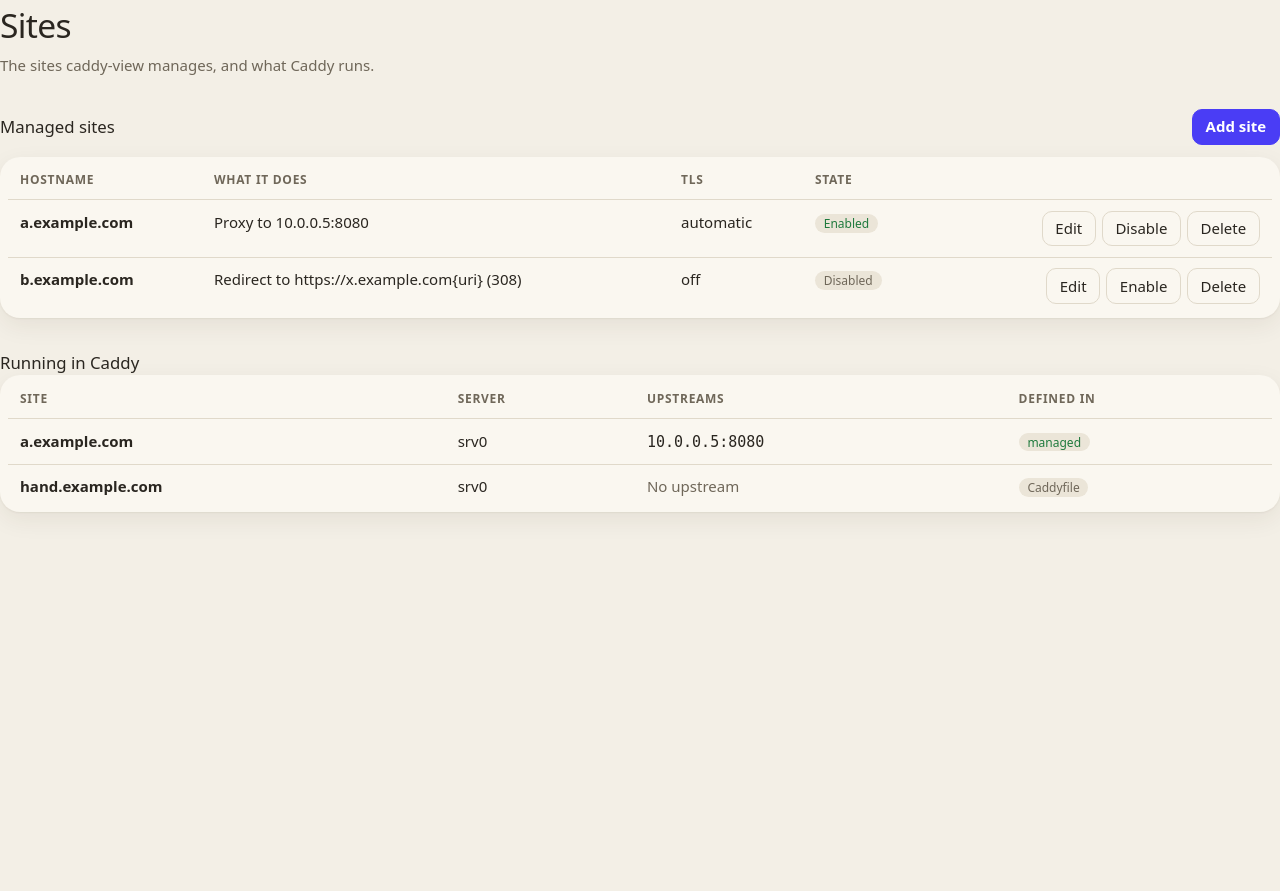
Test: SitesView adding and changing sites › opens the wizard on a site to change it
The width and height of the screenshot is (1280, 891).
Expected: the heading "Sites" is shown, [0,2,71,48]
Expected: the text "a.example.com" next to "Proxy to 10.0.0.5:8080" is shown, [20,212,133,232]
Click the button with aria-label "Edit a.example.com": (1069, 229) [1042,211,1096,246]
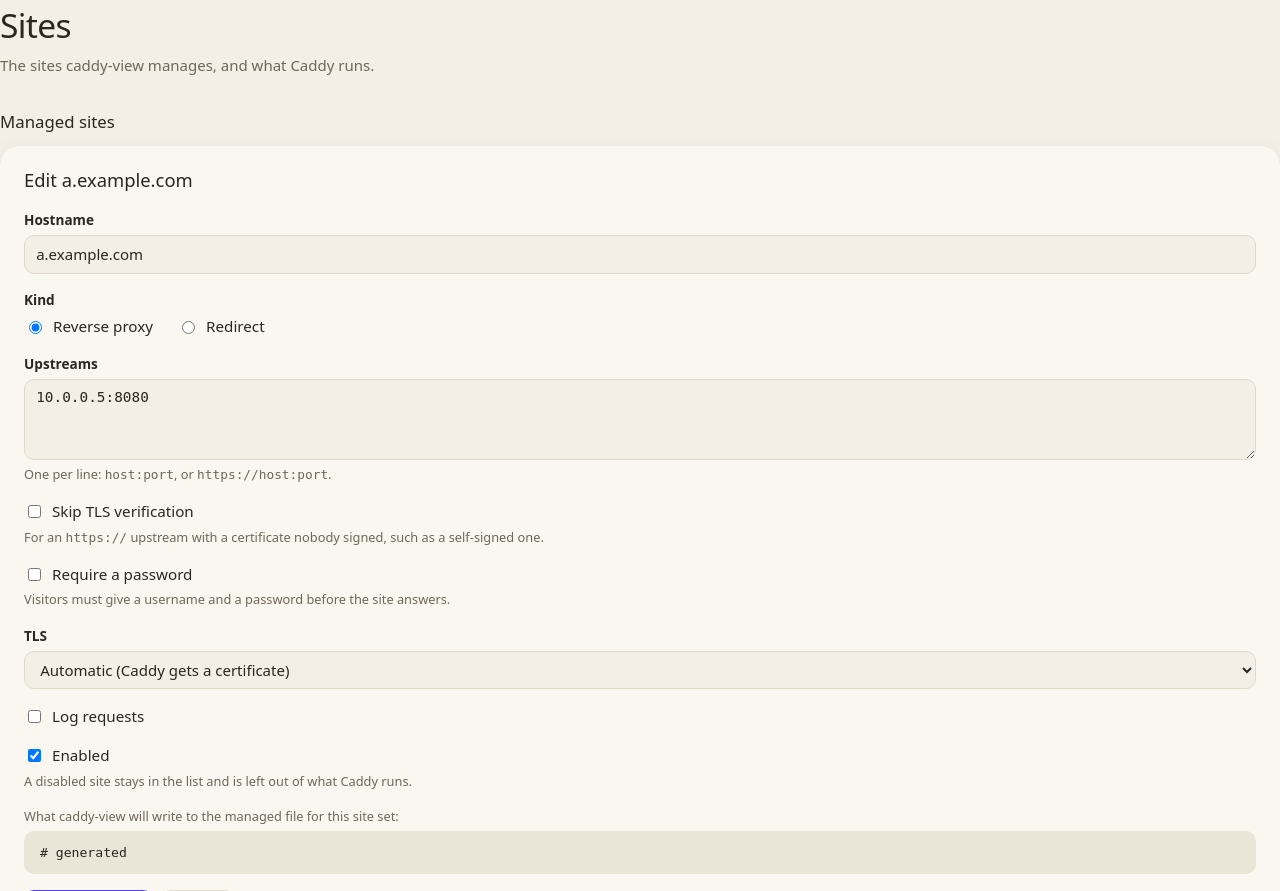
Expected: the heading "Edit a.example.com" is shown, [24,167,193,192]
Expected: the text box labelled "Upstreams" holds "10.0.0.5:8080", [24,379,1256,460]
